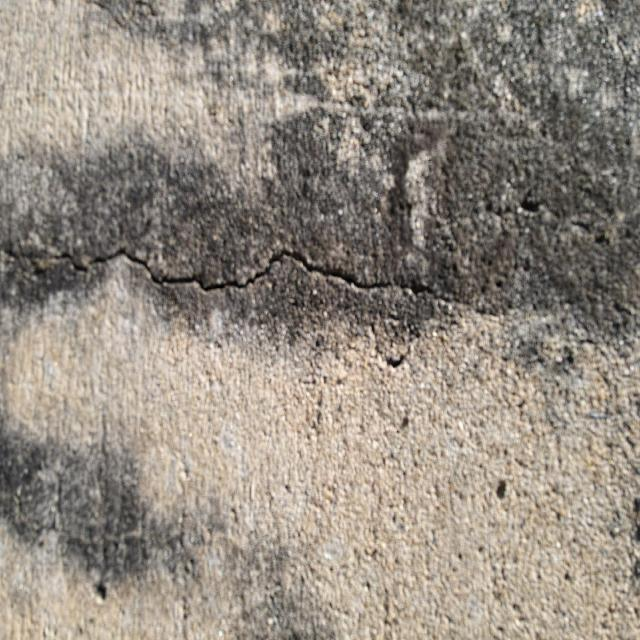SurfaceCrack: (1, 204, 638, 368)
